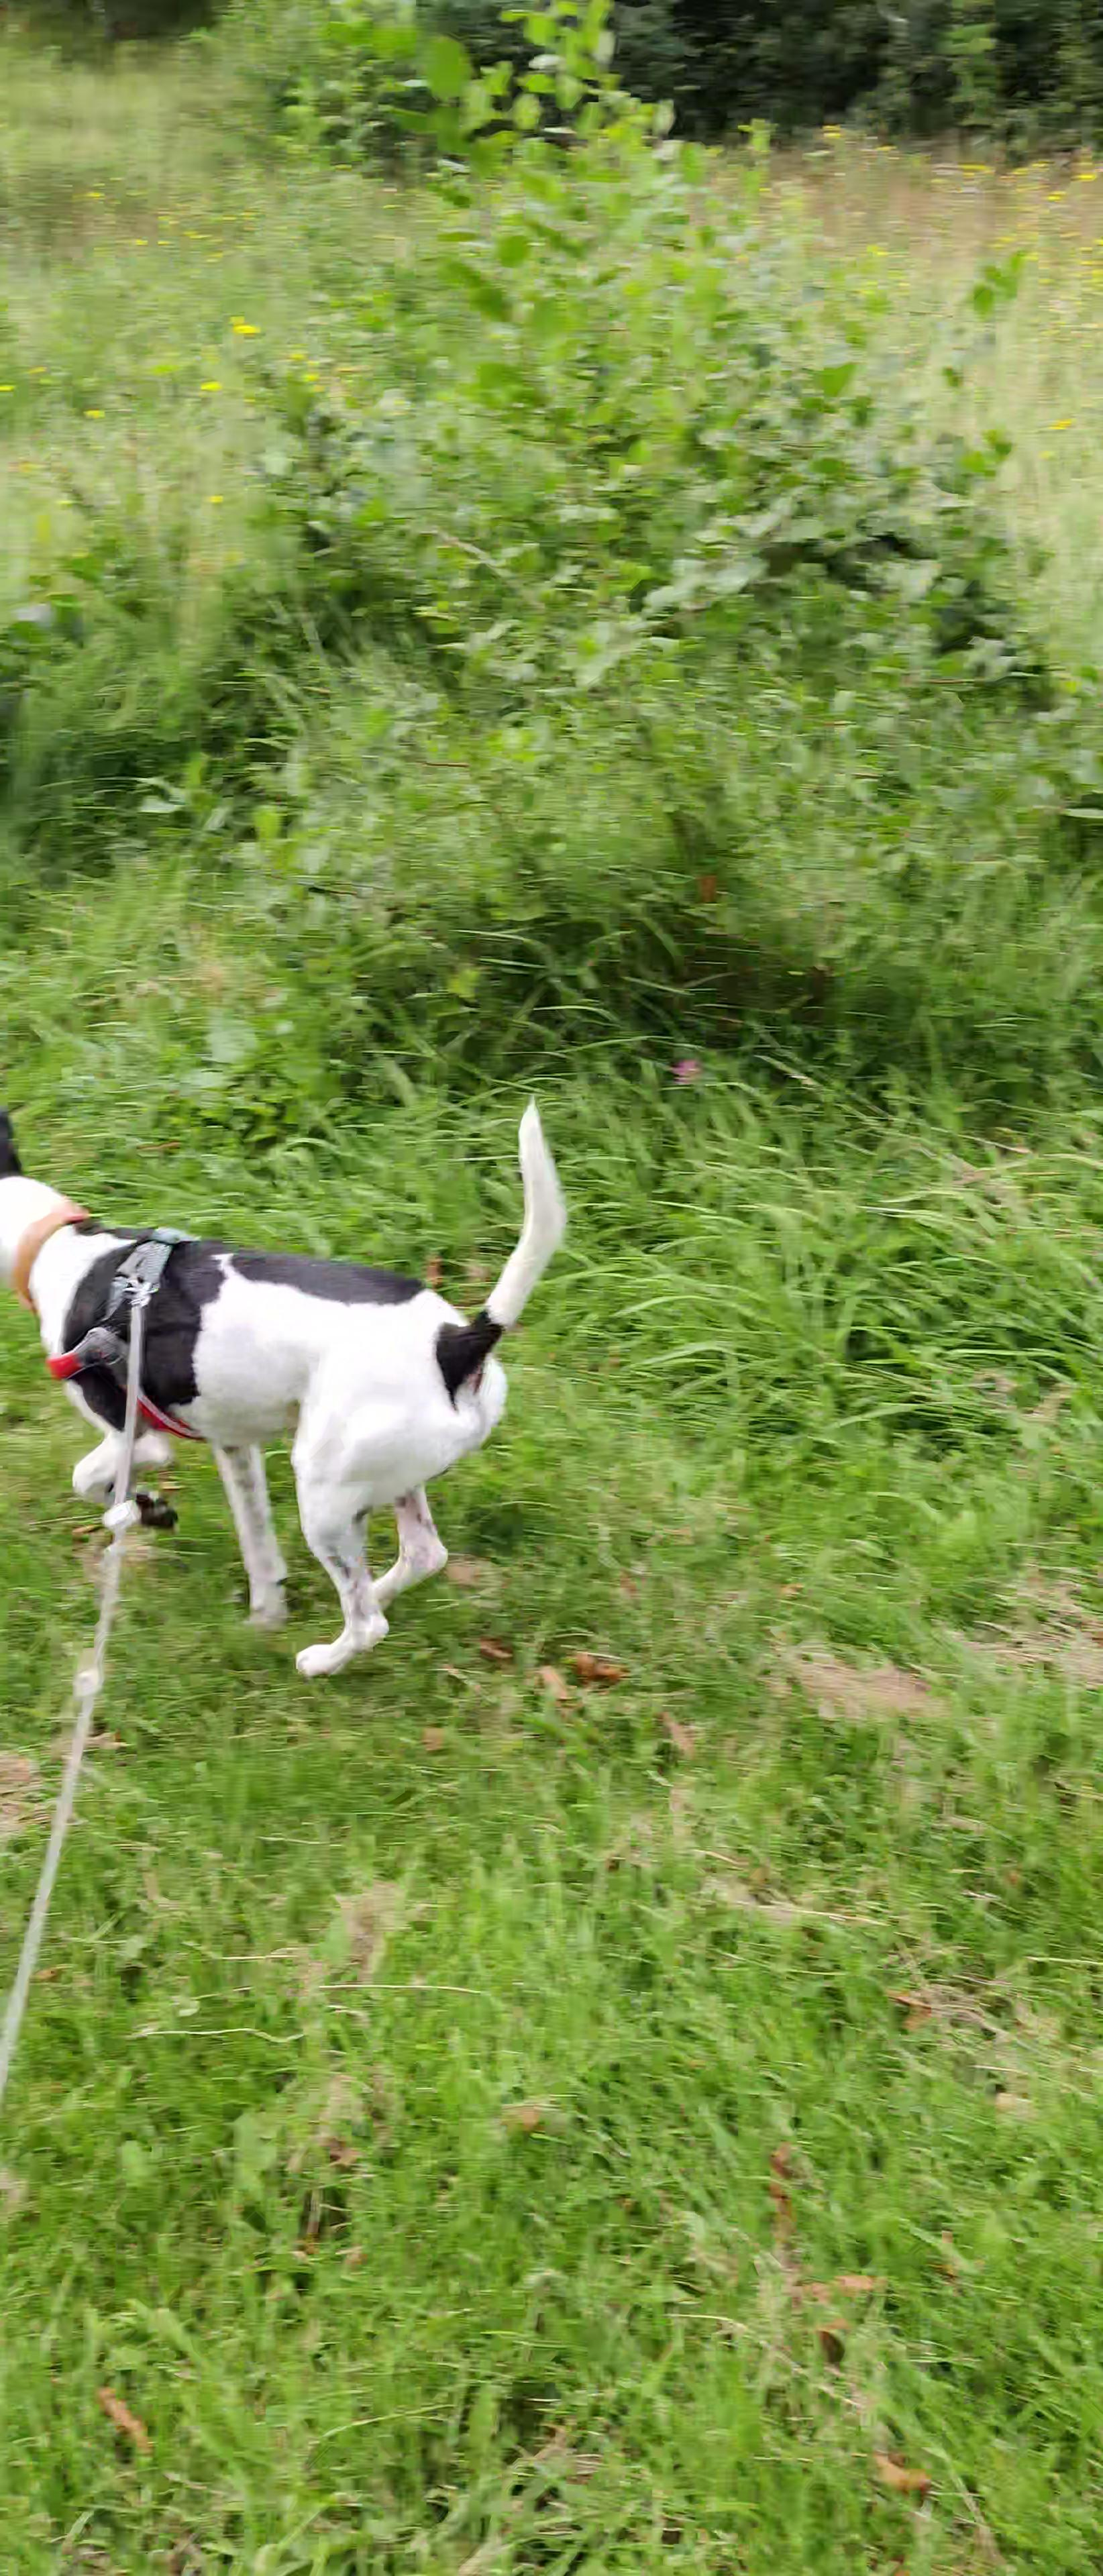Dog: (0, 1088, 590, 1694)
